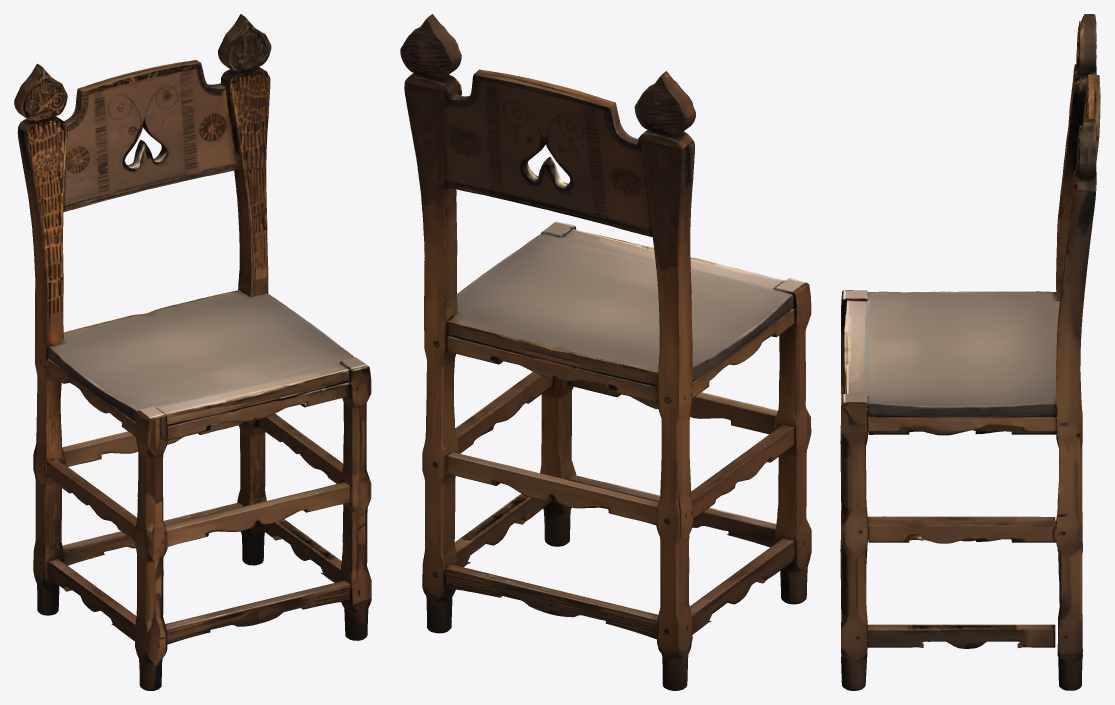
The picture shows the model from 3 angles, left to right: view 1: azimuth 30°, elevation 25°; view 2: azimuth 150°, elevation 25°; view 3: azimuth 270°, elevation 25°; orthographic projection. The views are drawn at different scales.
Visible parts, largest first — view 1: root.0, root.1, root.2, root.3, root.4, root.5, root.6, root.9, root.15, root.10, root.12, root.17 (+6 smaller); view 2: root.0, root.1, root.2, root.3, root.4, root.8, root.7, root.5, root.14, root.12, root.10, root.18 (+6 smaller); view 3: root.0, root.3, root.5, root.11, root.13, root.2, root.19, root.18, root.17, root.12, root.10, root.4 (+1 smaller).
Part boxes in pixels (x1,y1,x2,y2): root.0: [48, 289, 354, 424]; root.1: [63, 60, 238, 211]; root.2: [17, 116, 67, 615]; root.3: [220, 67, 270, 565]; root.4: [135, 406, 167, 690]; root.5: [338, 357, 371, 640]; root.6: [165, 482, 349, 546]; root.9: [165, 580, 349, 644]; root.15: [167, 381, 349, 440]; root.10: [47, 459, 136, 541]; root.12: [48, 558, 136, 641]; root.17: [14, 63, 67, 121]; root.0: [447, 229, 793, 384]; root.1: [435, 69, 653, 237]; root.2: [638, 129, 694, 690]; root.3: [404, 73, 461, 633]; root.4: [773, 278, 811, 604]; root.8: [446, 452, 658, 525]; root.7: [445, 564, 658, 639]; root.5: [540, 221, 576, 546]; root.14: [447, 334, 657, 402]; root.12: [689, 538, 794, 634]; root.10: [691, 425, 794, 518]; root.18: [400, 14, 461, 78]; root.0: [844, 291, 1059, 417]; root.3: [1056, 169, 1096, 690]; root.5: [840, 394, 867, 690]; root.11: [867, 624, 1055, 648]; root.13: [868, 520, 1056, 543]; root.2: [1056, 64, 1096, 580]; root.19: [867, 412, 1056, 431]; root.18: [1076, 118, 1096, 177]; root.17: [1076, 14, 1096, 72]; root.12: [867, 516, 1055, 541]; root.10: [868, 424, 1056, 435]; root.4: [840, 290, 867, 568].
Bounding box in the file's own units: 0.4655 × 0.96 × 0.3983.
Materials: 20 (20 with a texture image).
